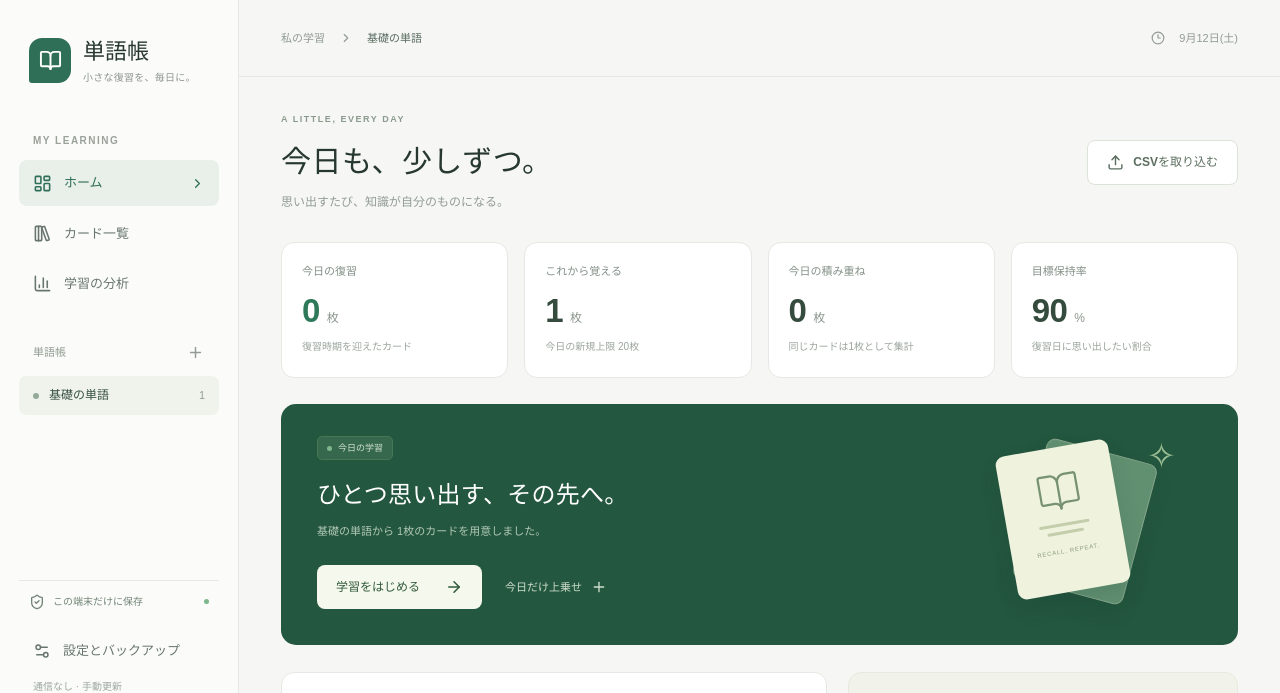
Test case: CSV choices and consolidation › explicitly switches an ID conflict to question matching without applying or losing choices
Click the button "CSVを取り込む" at point(1163, 163), box [1087,140,1238,185]
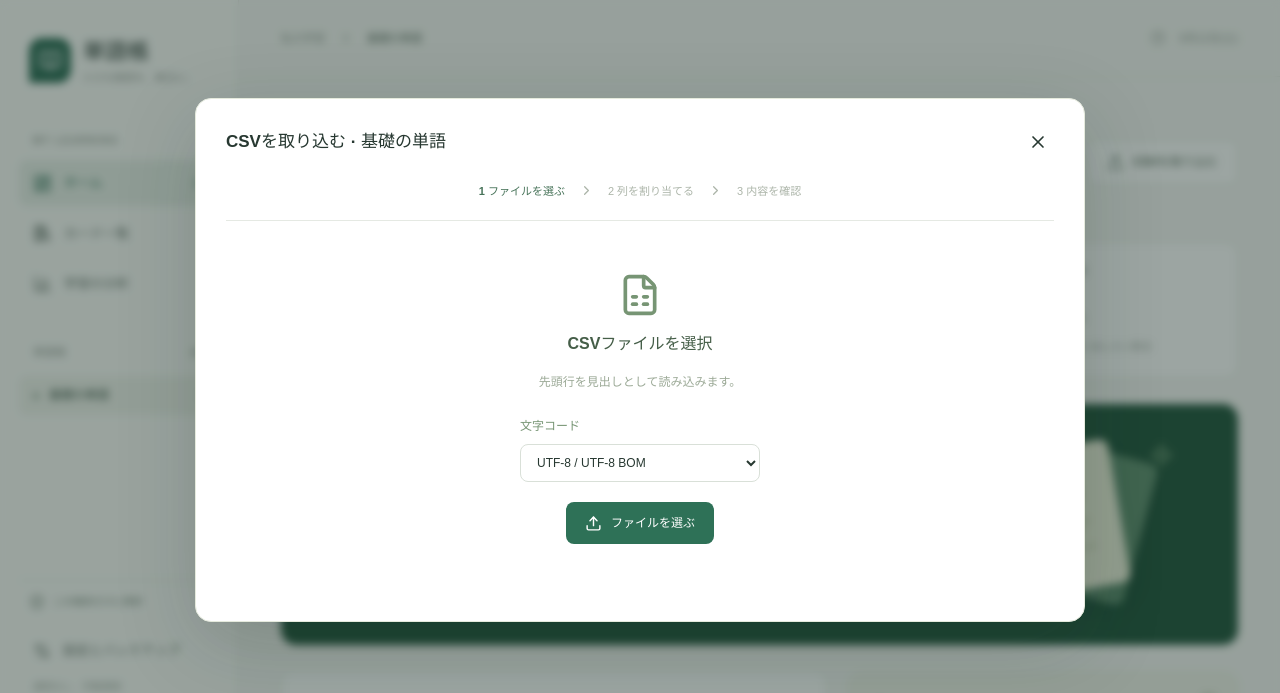
Click the button "ファイルを選ぶ" at point(640, 523), box [566,502,714,544]
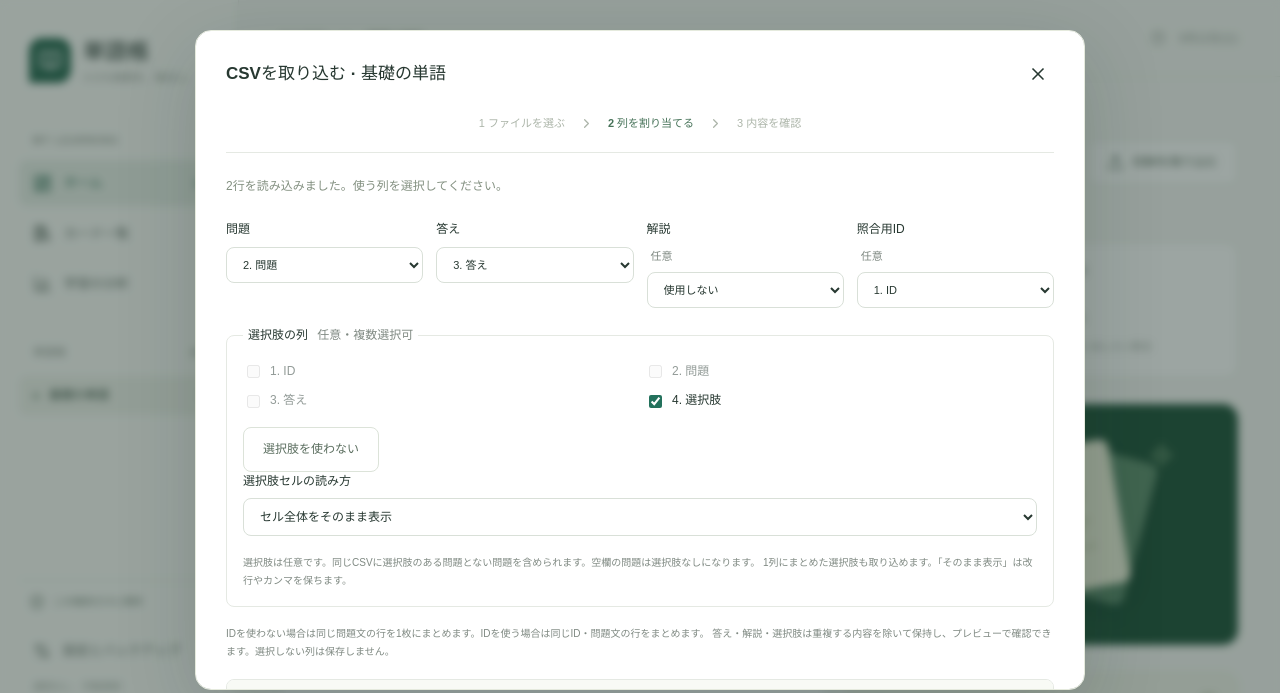
Select "区切り文字を指定する" in the dropdown labelled "選択肢セルの読み方" at point(640, 518), box [243,498,1037,536]
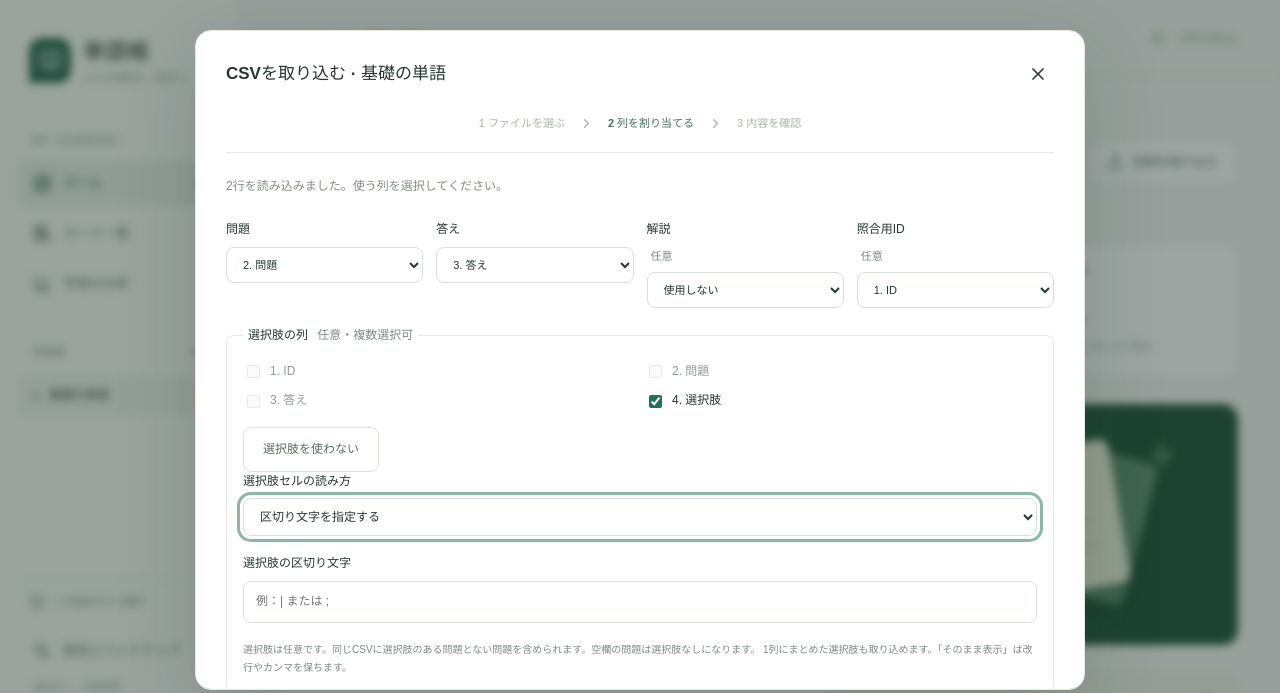
Type "|" into the field labelled "選択肢の区切り文字" at point(640, 602), box [243,581,1037,623]
(page scrolled)
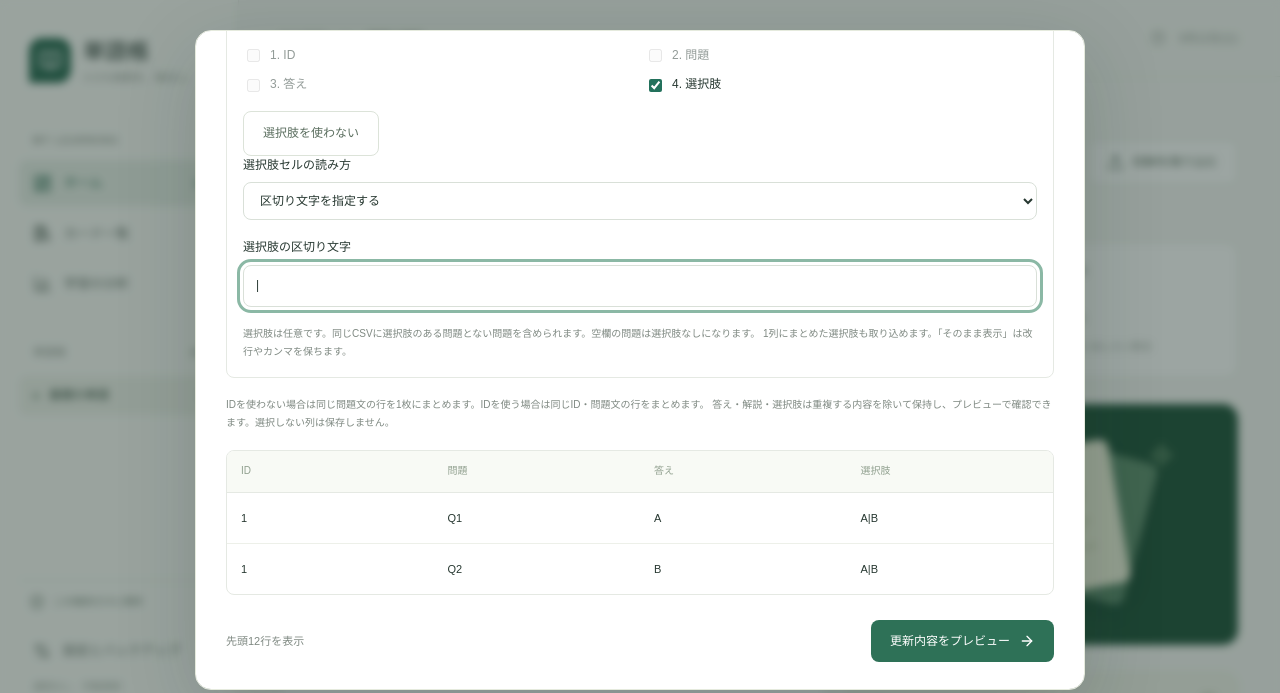
Click the button "更新内容をプレビュー" at point(962, 641), box [871,620,1054,662]
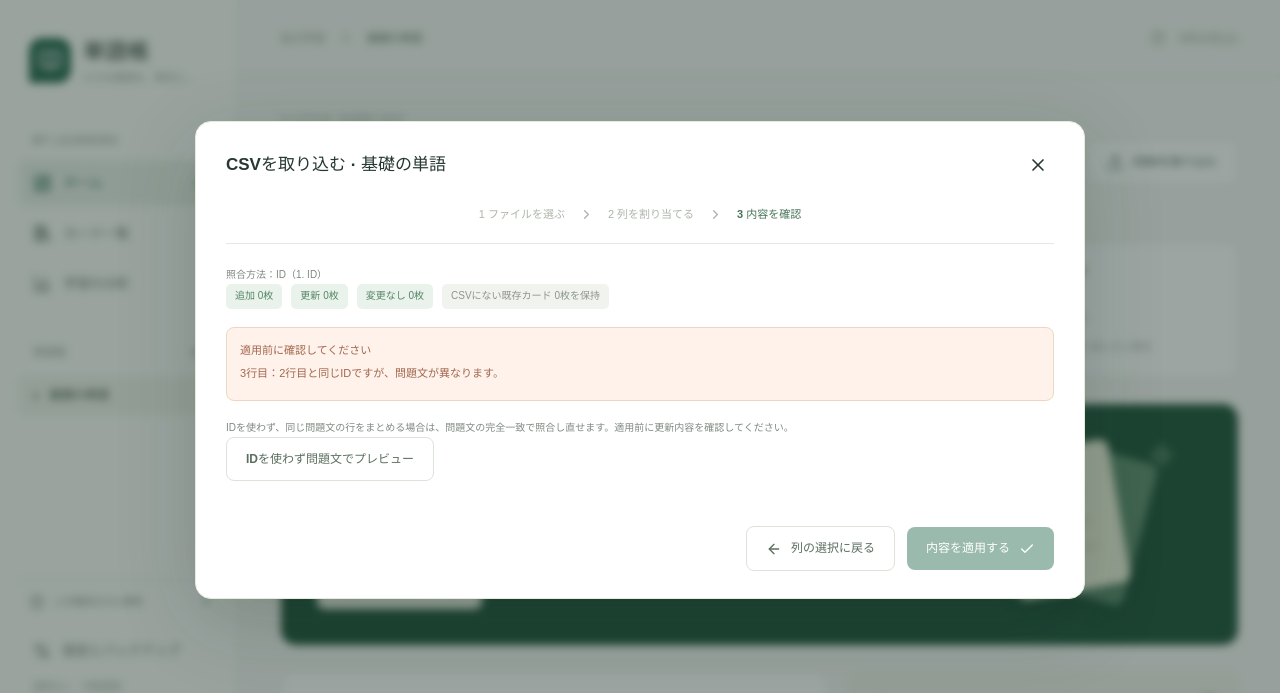
Check: the message shows "問題文が異なります", box [279,367,504,379]
Check: the button "内容を適用する" is disabled, box [907,528,1054,570]
Click the button "IDを使わず問題文でプレビュー" at point(330, 459), box [226,437,434,482]
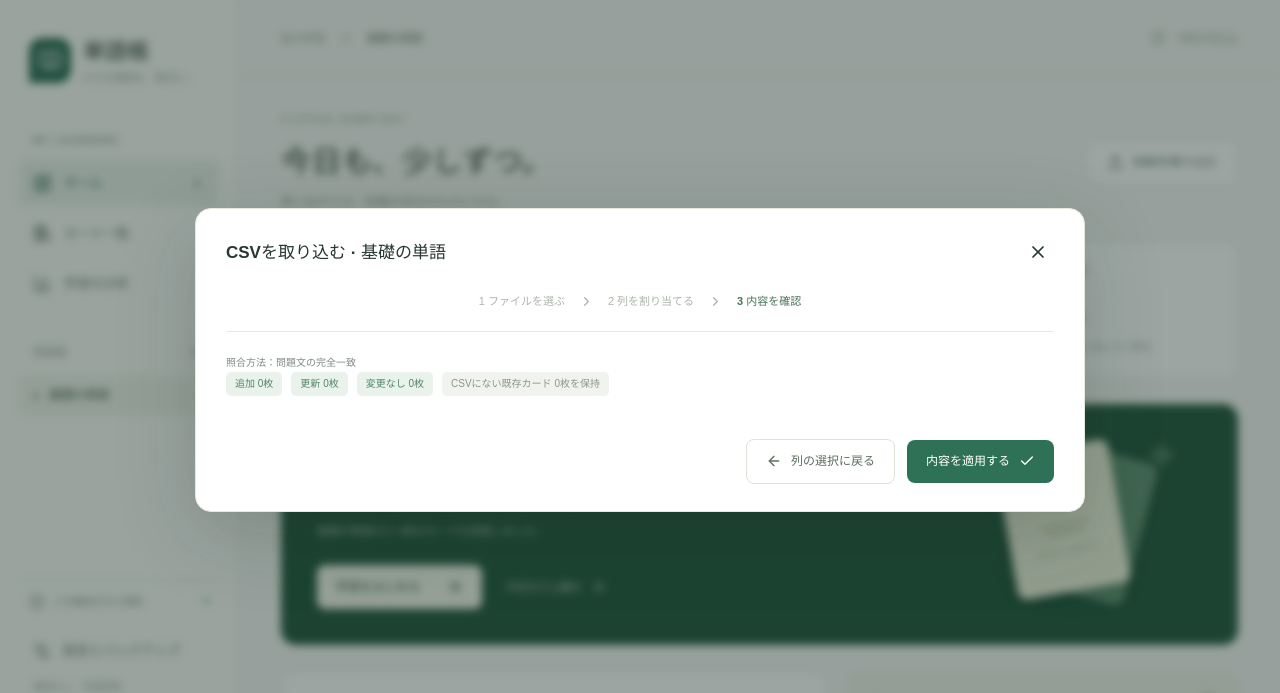
Check: the text "照合方法：問題文の完全一致" is shown, box [226,357,356,368]
